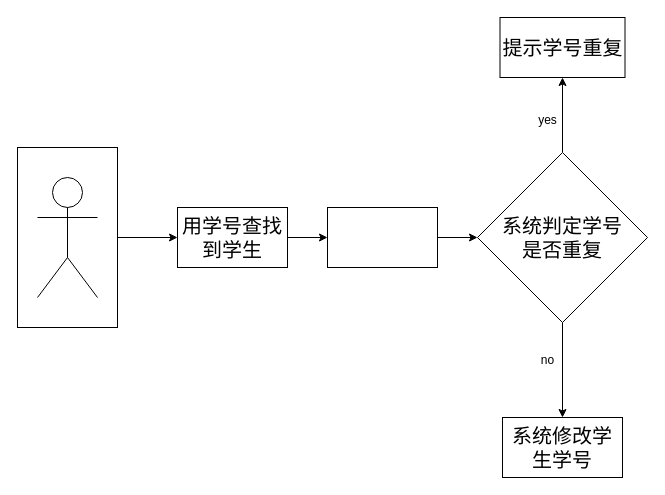
Image size: 665x495. Some labels were removed from this diagram. Each missing label, with the centre of its shape:
"Actor" belongs at (x=67, y=237).
"老师提供新的学号" belongs at (x=382, y=237).
